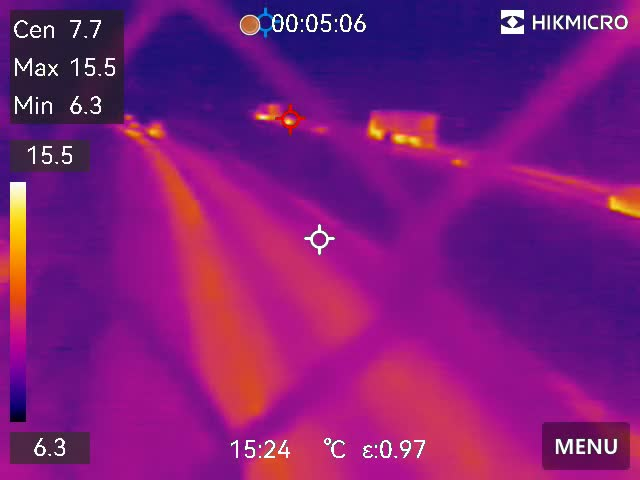heavyTruck: (362, 101, 446, 152)
